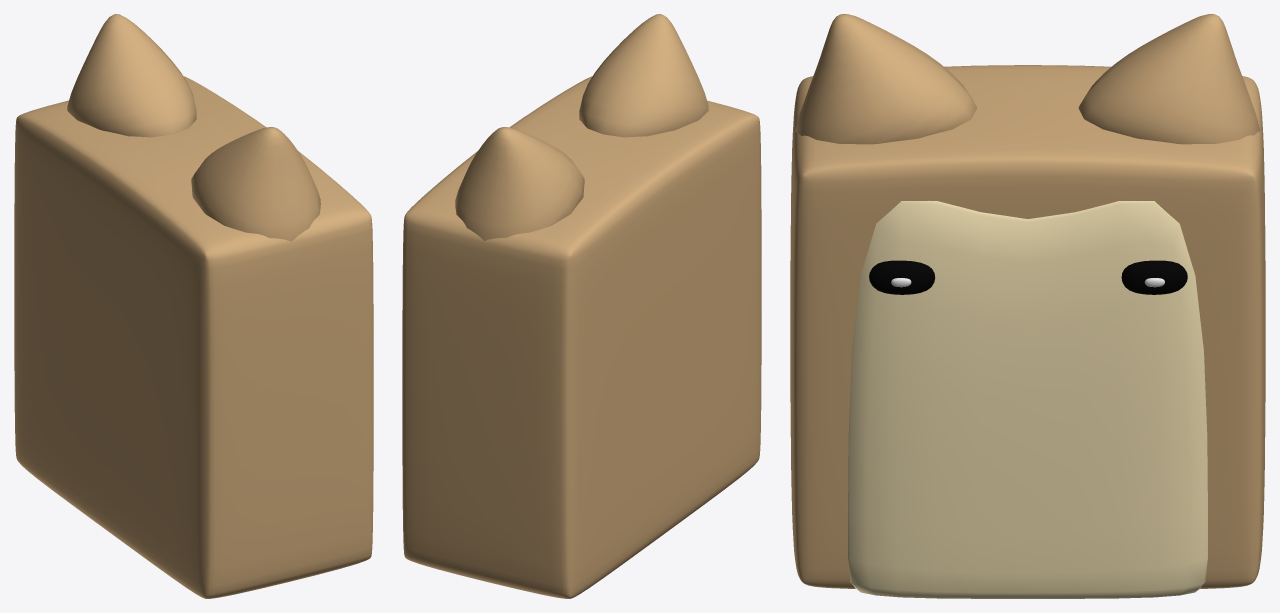
Rendered from Gato_Cafe.fbx.
3 views of the same model, side by side, from view 1: azimuth 30°, elevation 25°; view 2: azimuth 150°, elevation 25°; view 3: azimuth 270°, elevation 25° (orthographic). The views are drawn at different scales.
Visible parts, largest first — view 1: Gato_Cafe; view 2: Gato_Cafe; view 3: Gato_Cafe.
Part boxes in pixels (bbox=[...]): Gato_Cafe: bbox=[14, 14, 373, 598]; Gato_Cafe: bbox=[402, 14, 761, 598]; Gato_Cafe: bbox=[790, 14, 1265, 598].
Bounding box in the file's own units: 76.39 × 167 × 135.
